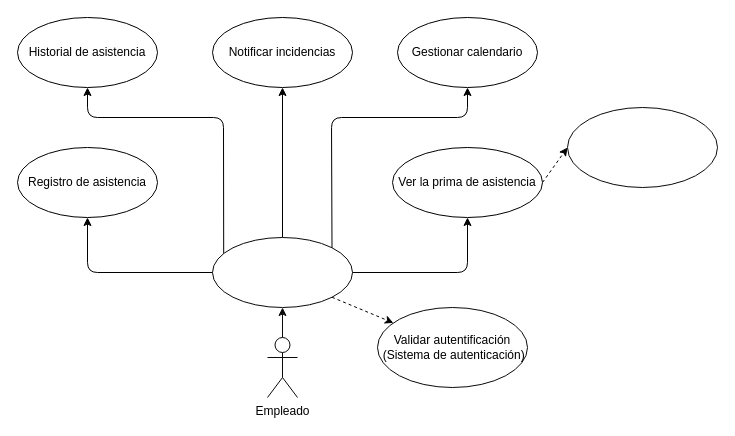
The diagram is 735 pixels wide and 436 high, and some of its shapes have lost their labels. The shapes that lost their labels are listed below. From the top down, each one's box as (x1, y1, x2, y2) in pixels, then its label:
(566, 106, 718, 188): Cálculo de prima de asistencia (Sistema de RRHH)
(212, 236, 352, 308): Solicitar autenticación
